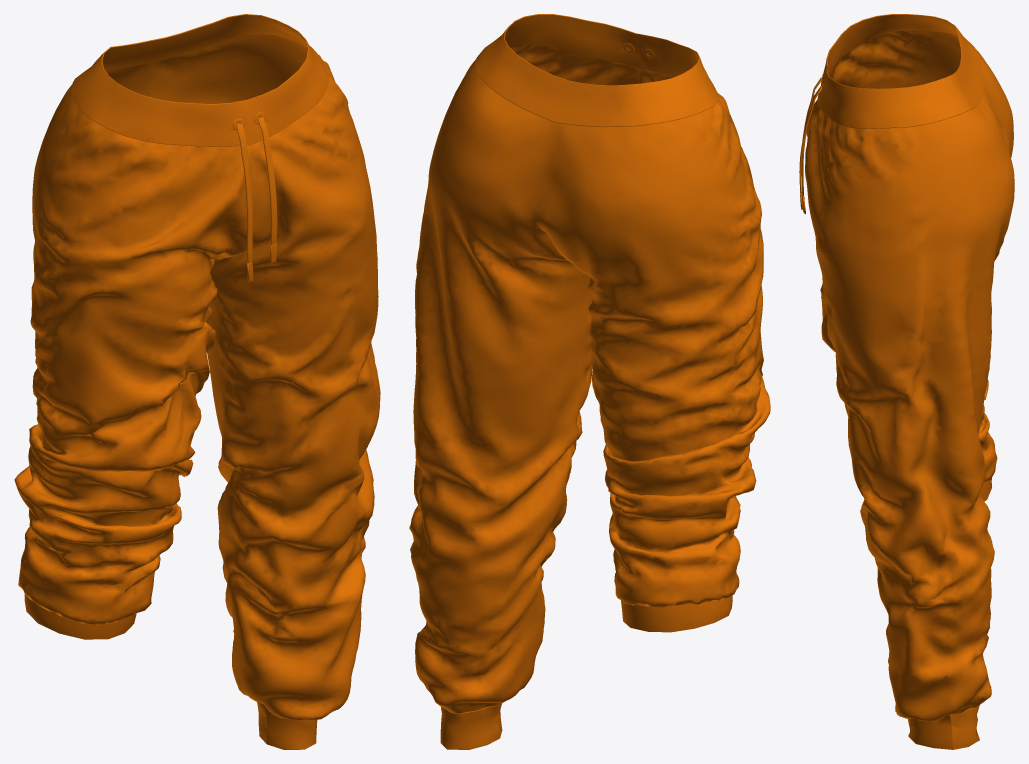
The model's file is calçafem3glb.glb.
3 renders of one model, left to right at view 1: azimuth 30°, elevation 25°; view 2: azimuth 150°, elevation 25°; view 3: azimuth 270°, elevation 25°, orthographic. The views are drawn at different scales.
Parts seen in each view (by area): view 1: hash_FB60F9AD.model; view 2: hash_FB60F9AD.model; view 3: hash_FB60F9AD.model.
Boxes of the visible parts, bbox=[...] form: hash_FB60F9AD.model: bbox=[14, 14, 380, 749]; hash_FB60F9AD.model: bbox=[409, 14, 770, 749]; hash_FB60F9AD.model: bbox=[799, 14, 1014, 749].
Size of the model in its own units: 0.502 by 1.02 by 0.3075.
